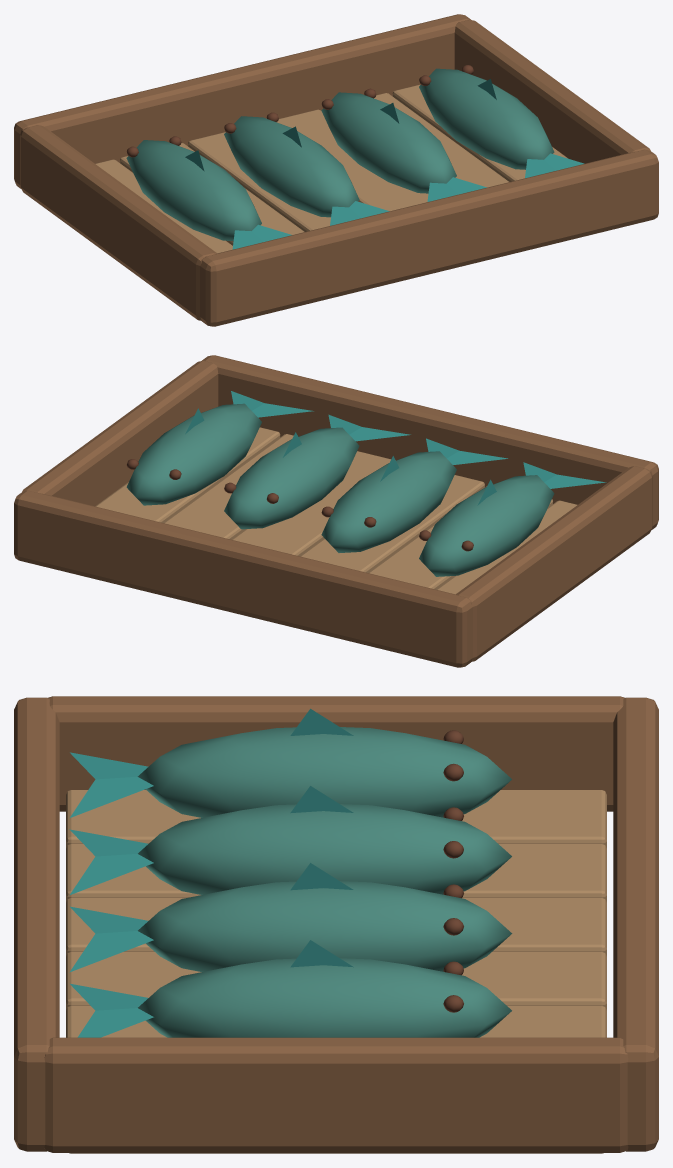
File: fish-tray.glb
The picture shows the model from 3 angles, top to bottom: view 1: azimuth 30°, elevation 25°; view 2: azimuth 150°, elevation 25°; view 3: azimuth 270°, elevation 25°; orthographic projection. The views are drawn at different scales.
Parts seen in each view (by area): view 1: fish-tray__wood, fish-tray__patina, fish-tray__woodlight, fish-tray__teal, fish-tray__slip; view 2: fish-tray__wood, fish-tray__patina, fish-tray__woodlight, fish-tray__teal, fish-tray__slip; view 3: fish-tray__wood, fish-tray__patina, fish-tray__woodlight, fish-tray__teal, fish-tray__slip.
Boxes of the visible parts, left/top/right/bottom form: fish-tray__wood: left=14, top=14, right=658, bottom=326; fish-tray__patina: left=126, top=68, right=554, bottom=241; fish-tray__woodlight: left=95, top=84, right=567, bottom=253; fish-tray__teal: left=185, top=79, right=584, bottom=249; fish-tray__slip: left=126, top=65, right=473, bottom=157; fish-tray__wood: left=14, top=355, right=658, bottom=667; fish-tray__patina: left=126, top=403, right=554, bottom=576; fish-tray__woodlight: left=95, top=427, right=577, bottom=594; fish-tray__teal: left=185, top=391, right=606, bottom=505; fish-tray__slip: left=127, top=459, right=473, bottom=551; fish-tray__wood: left=14, top=696, right=658, bottom=1152; fish-tray__patina: left=137, top=727, right=512, bottom=1037; fish-tray__woodlight: left=66, top=790, right=606, bottom=1153; fish-tray__teal: left=69, top=708, right=353, bottom=1037; fish-tray__slip: left=443, top=730, right=463, bottom=1012.
Bounding box in the file's own units: 1.31 × 0.29 × 0.99.
